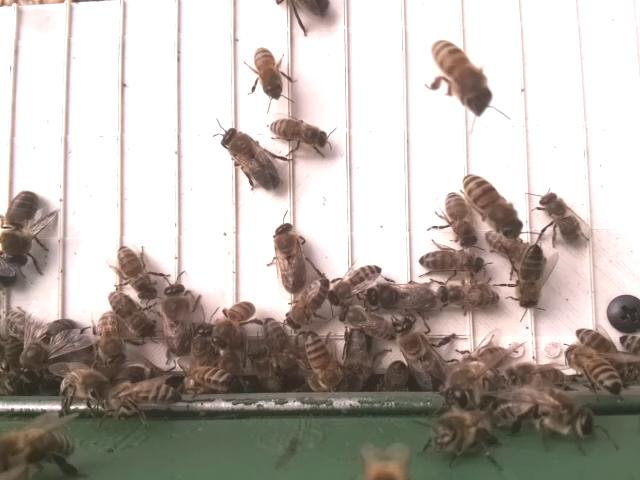Drone: (16, 311, 83, 384), (220, 126, 282, 193), (395, 317, 448, 391), (0, 190, 43, 270), (158, 278, 197, 357), (362, 276, 436, 315), (272, 219, 307, 296)
Worker: (460, 173, 524, 234), (433, 40, 491, 106), (106, 288, 160, 344), (563, 344, 620, 393), (326, 262, 385, 307), (114, 241, 157, 301), (539, 189, 584, 246), (286, 275, 330, 332), (513, 242, 547, 311), (212, 298, 256, 351), (266, 115, 331, 150), (417, 247, 488, 279), (304, 330, 337, 395), (94, 308, 127, 368), (443, 188, 477, 246), (251, 43, 285, 100), (175, 363, 236, 394), (440, 284, 502, 311)
